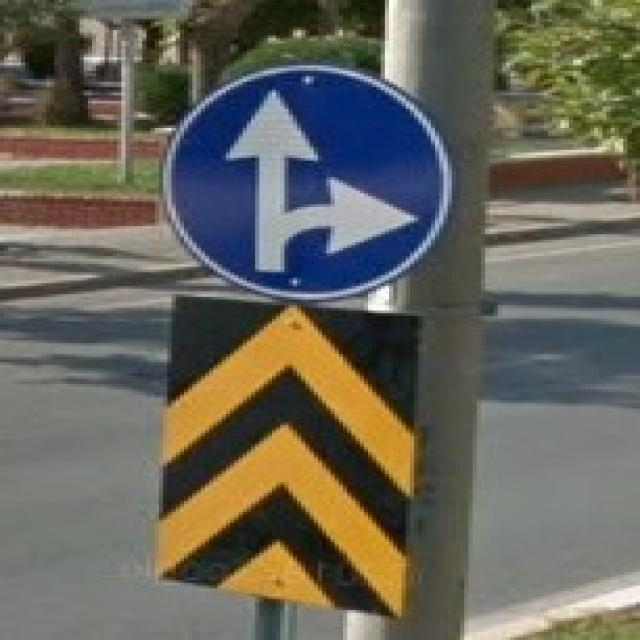Straight or Right: (170, 68, 455, 297)
